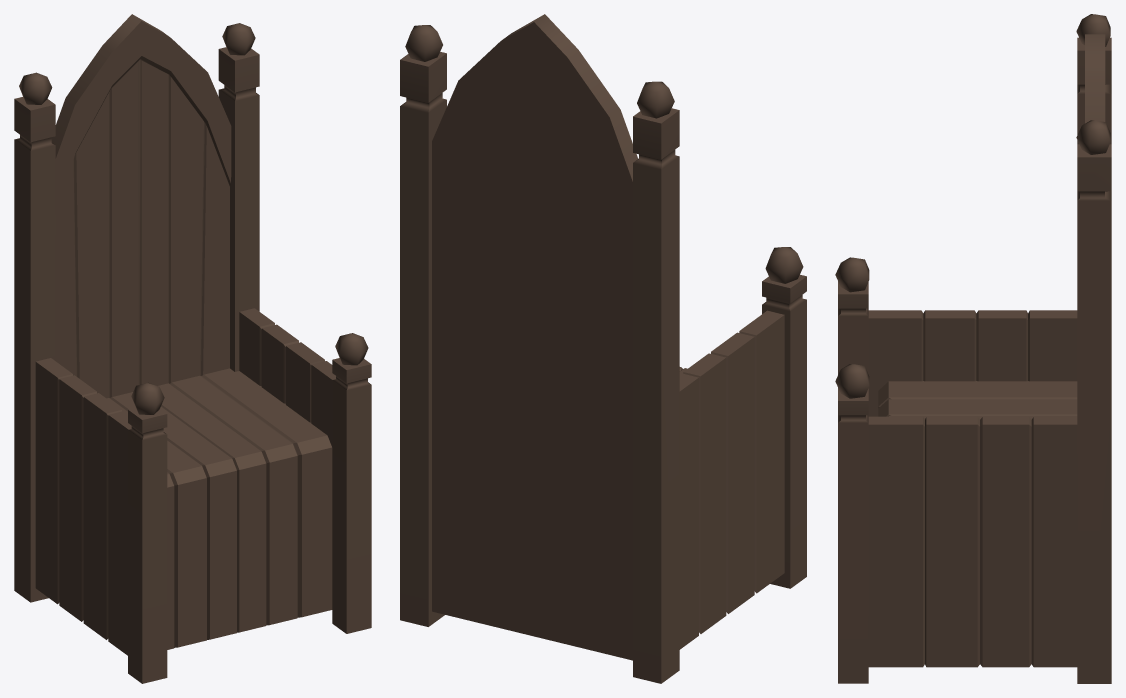
The model's file is Throne.fbx.
The picture shows the model from 3 angles, left to right: view 1: azimuth 30°, elevation 25°; view 2: azimuth 150°, elevation 25°; view 3: azimuth 270°, elevation 25°; orthographic projection. The views are drawn at different scales.
Visible parts, largest first — view 1: throne; view 2: throne; view 3: throne.
Part boxes in pixels (<box>): throne: <box>14,14,371,683</box>; throne: <box>400,14,806,683</box>; throne: <box>835,14,1111,683</box>.
Bounding box in the file's own units: 87.08 × 197 × 83.63.
